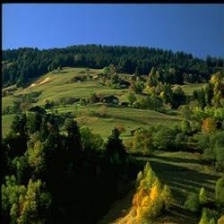neutral: (4, 6, 223, 224)
